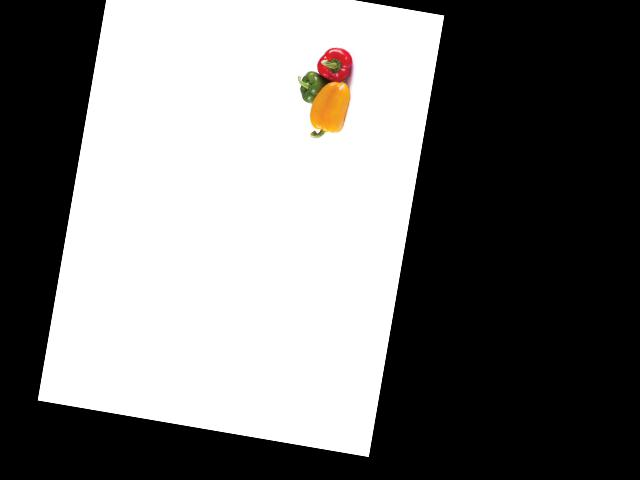bell_pepper: (293, 66, 331, 109)
